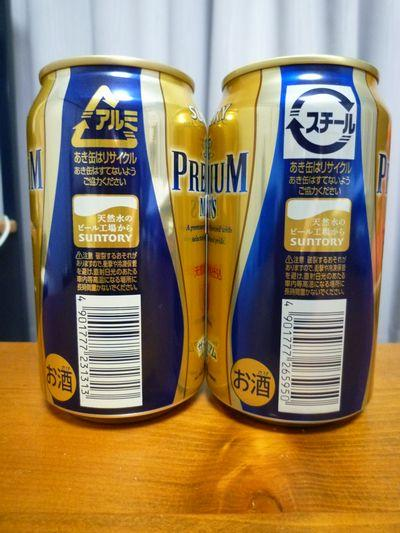metal: (26, 51, 391, 432)
